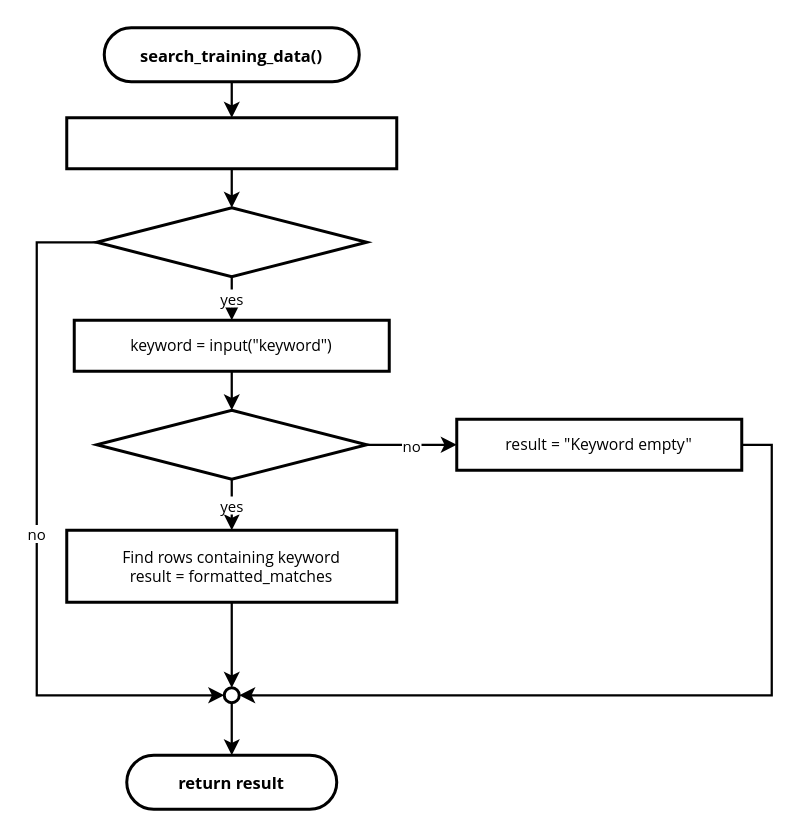
Image size: 812x836. Some labels were removed from this diagram. Each missing label, with the box of its shape:
dataset not empty: (94, 206, 368, 278)
keyword not empty: (94, 408, 368, 480)
result = "No data available": (64, 116, 398, 170)
